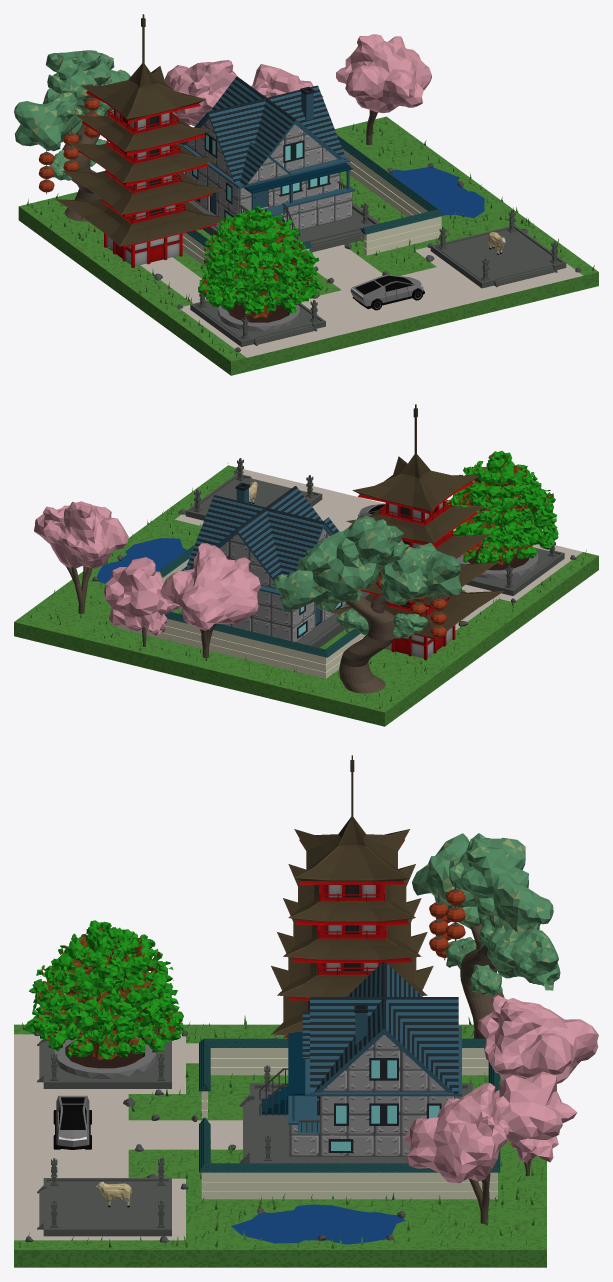
3 renders of one model, top to bottom at view 1: azimuth 30°, elevation 25°; view 2: azimuth 150°, elevation 25°; view 3: azimuth 270°, elevation 25°, orthographic. The views are drawn at different scales.
Visible parts, largest first — view 1: Cube.005, Cube.078, OBJRANDOM_CEIBA, VEHICLES_CYBERTRUCK; view 2: Cube.005, Cube.078, OBJRANDOM_CEIBA; view 3: Cube.005, Cube.078, OBJRANDOM_CEIBA, VEHICLES_CYBERTRUCK.
Part boxes in pixels (x1,y1,x2,y2): Cube.005: (14, 14, 598, 375); Cube.078: (179, 76, 354, 239); OBJRANDOM_CEIBA: (198, 205, 322, 331); VEHICLES_CYBERTRUCK: (350, 274, 424, 310); Cube.005: (14, 404, 598, 726); Cube.078: (181, 482, 347, 642); OBJRANDOM_CEIBA: (445, 451, 558, 578); Cube.005: (14, 755, 598, 1267); Cube.078: (259, 961, 461, 1156); OBJRANDOM_CEIBA: (23, 920, 184, 1078); VEHICLES_CYBERTRUCK: (53, 1095, 91, 1149).
Bounding box in the file's own units: 4528 × 2791 × 4389.
37 materials, 7 textured.
